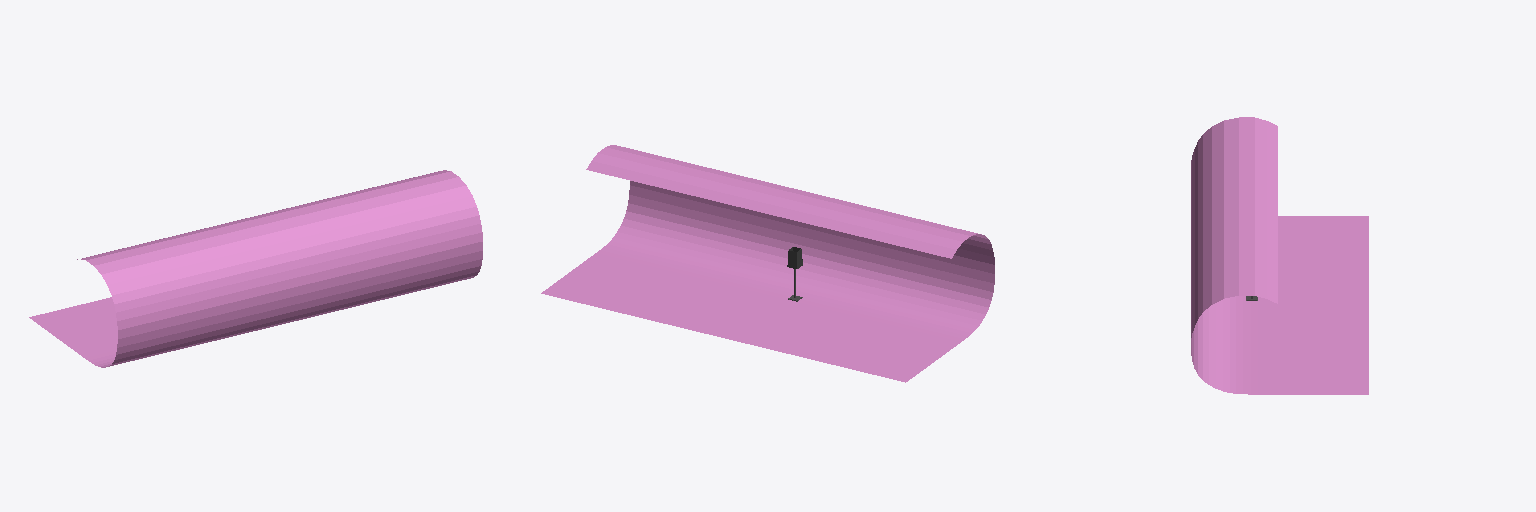
File: garl.obj
3 renders of one model, left to right at view 1: azimuth 30°, elevation 25°; view 2: azimuth 150°, elevation 25°; view 3: azimuth 270°, elevation 25°, orthographic.
Visible parts, largest first — view 1: sd; view 2: sd; view 3: sd.
Boxes of the visible parts, x1=… form: sd: x1=29, y1=170, x2=482, y2=367; sd: x1=541, y1=145, x2=994, y2=382; sd: x1=1191, y1=117, x2=1368, y2=394.
Size of the model in its own units: 1481 by 383 by 626.